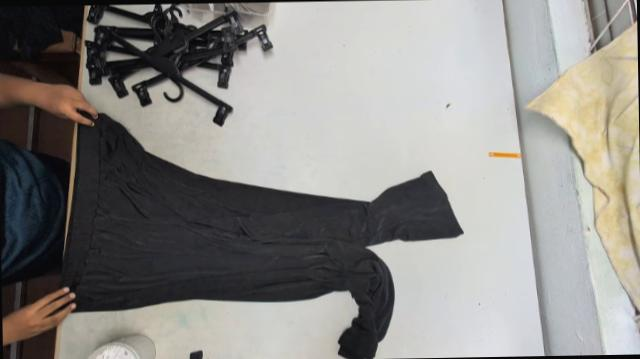new-garment: (62, 112, 463, 358)
